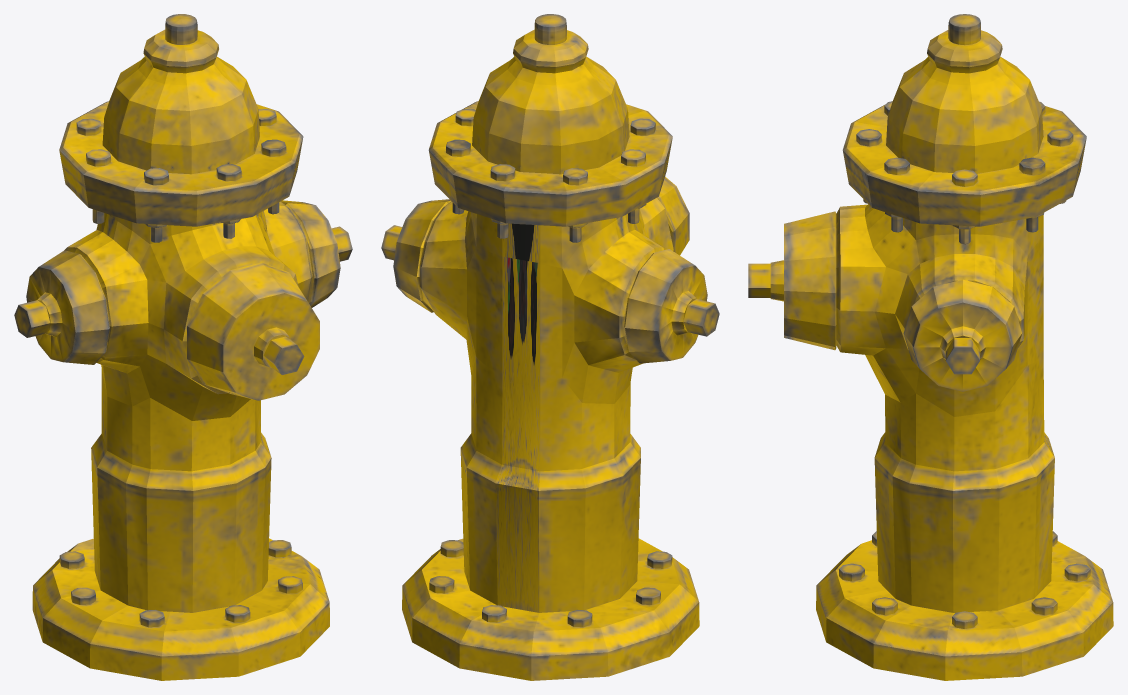
Rendered from gidrant.fbx.
The picture shows the model from 3 angles, left to right: view 1: azimuth 30°, elevation 25°; view 2: azimuth 150°, elevation 25°; view 3: azimuth 270°, elevation 25°; orthographic projection.
Parts seen in each view (by area): view 1: metal street props low poly.003; view 2: metal street props low poly.003; view 3: metal street props low poly.003.
Boxes of the visible parts, x1,y1,x2,y2 form: metal street props low poly.003: [14, 14, 352, 680]; metal street props low poly.003: [381, 14, 719, 680]; metal street props low poly.003: [748, 14, 1113, 680].
Bounding box in the file's own units: 41.05 × 73.17 × 40.4.
